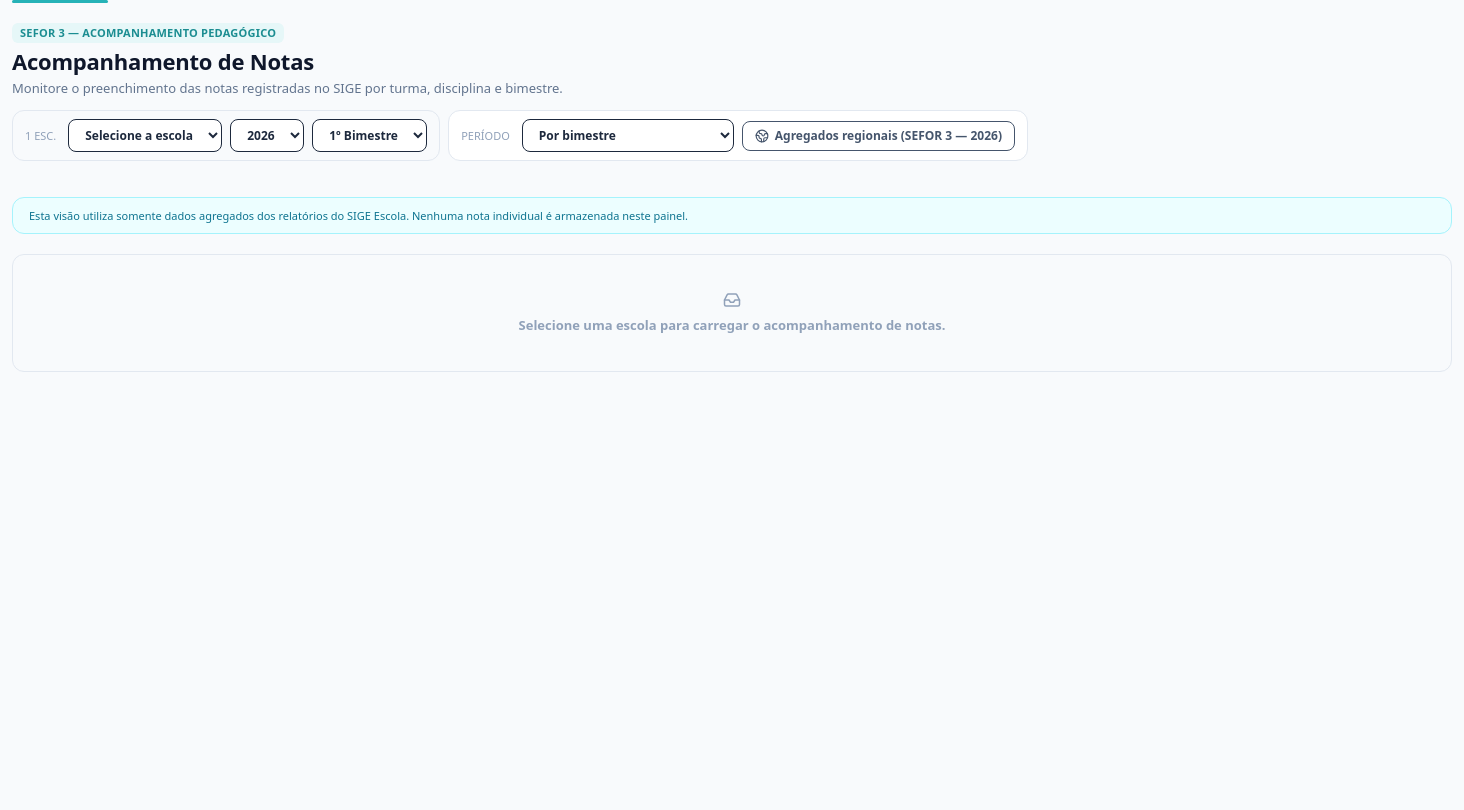
Test: NotasView › falha de leitura de turmas (seção 2 do code review do PR #17) › retry bem-sucedido depois de uma falha de turmas restaura a tabela normal
Select "EEM Diva Cabral" in the dropdown named "Escola" at (145, 136), box left=68, top=119, right=222, bottom=152
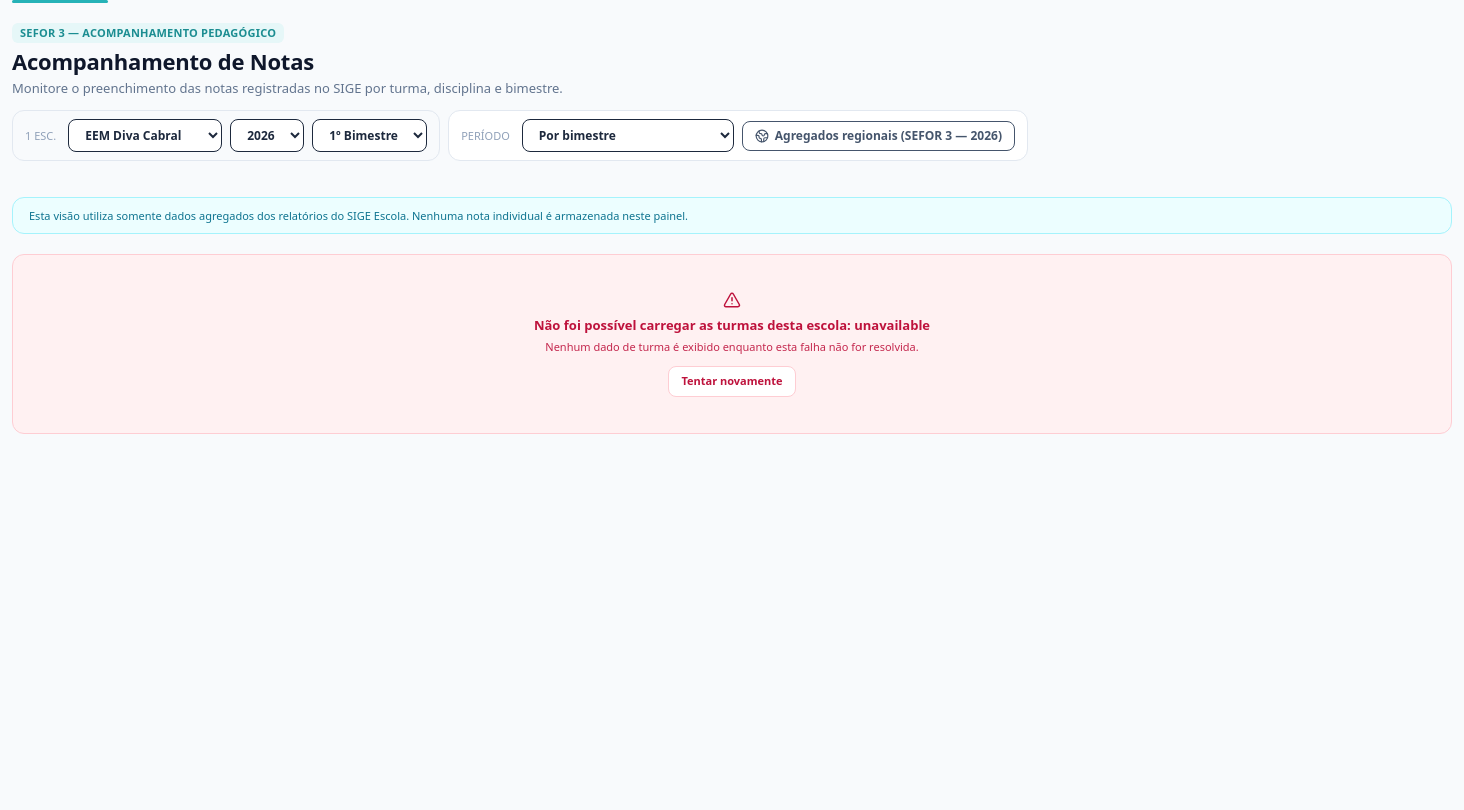
Now the text "Não foi possível carregar as turmas desta escola" is shown, box left=534, top=316, right=930, bottom=334
Click the button "Tentar novamente" at (732, 381), box left=668, top=366, right=796, bottom=397
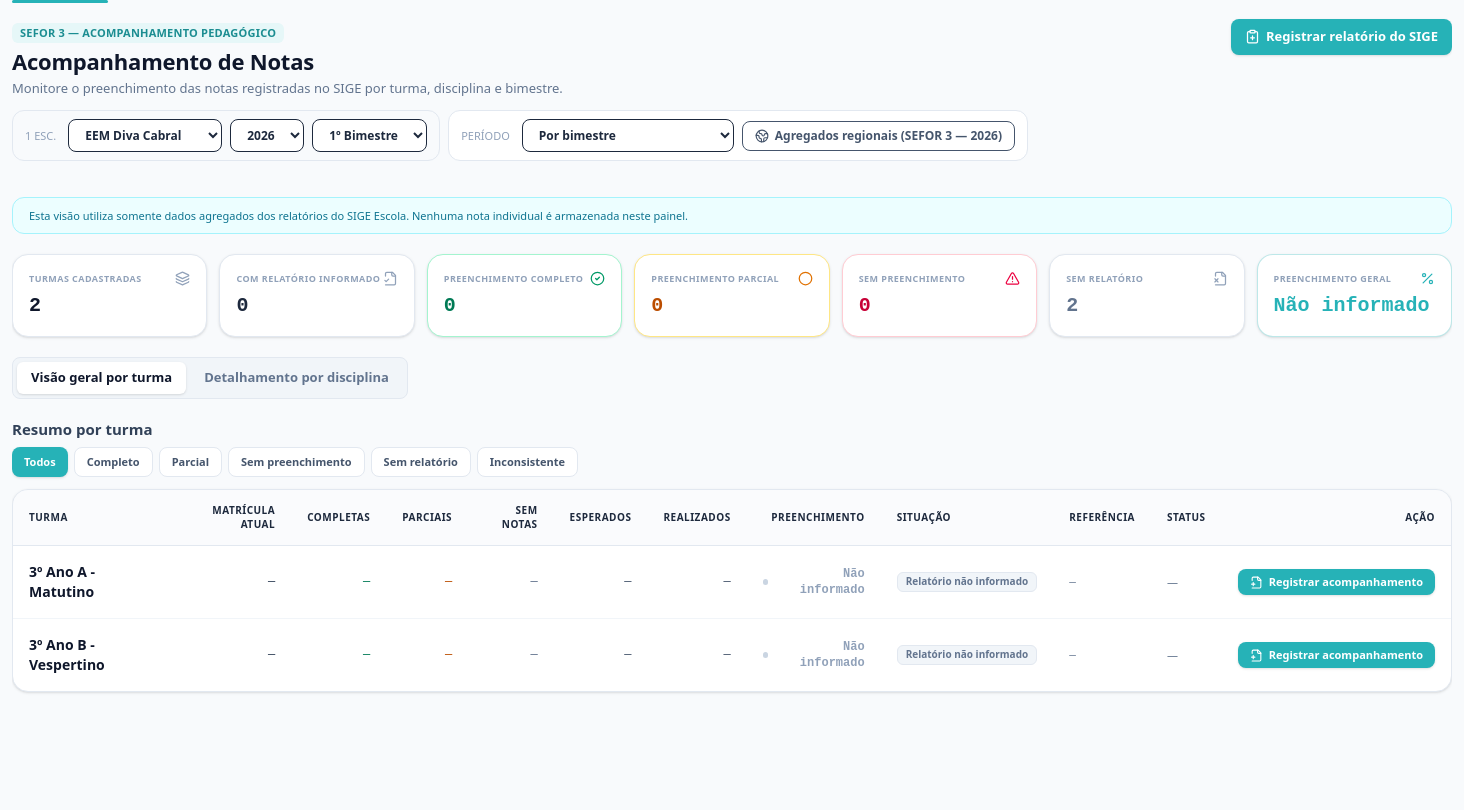
Now the text "3º Ano A - Matutino" is shown, box left=13, top=546, right=170, bottom=619
Now the text "Não foi possível carregar as turmas desta escola" is gone
